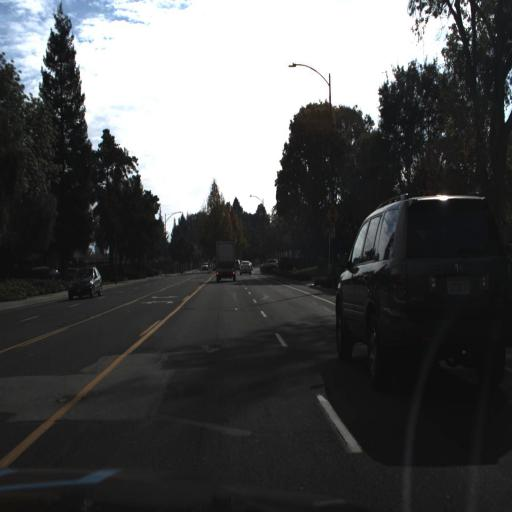car: (335, 192, 509, 410), (211, 233, 239, 288), (65, 263, 103, 299), (236, 254, 252, 278)
truck: (210, 228, 237, 287)
